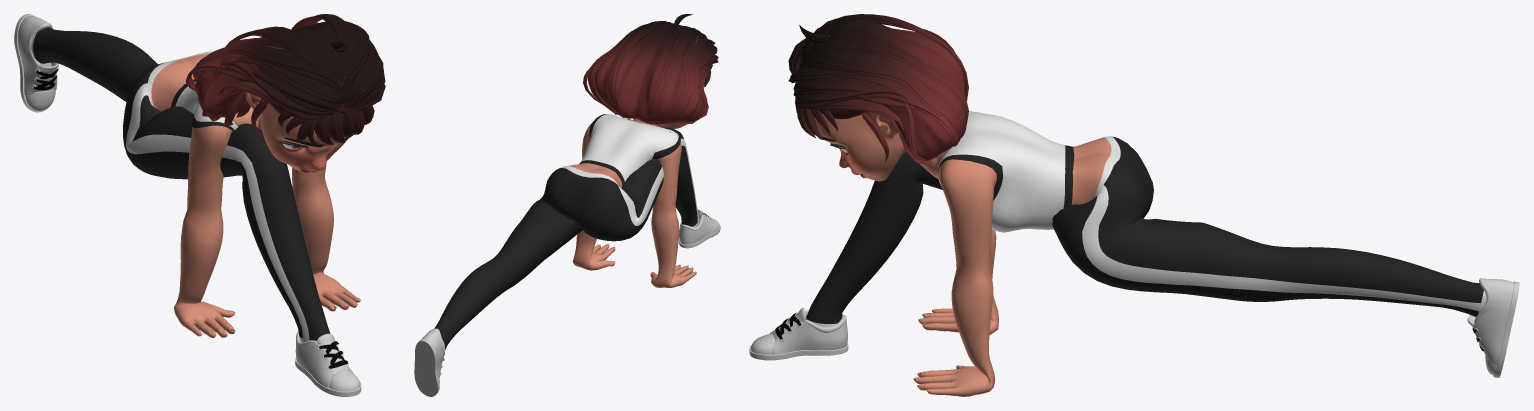
Rendered from lungs.glb.
3 renders of one model, left to right at view 1: azimuth 30°, elevation 25°; view 2: azimuth 150°, elevation 25°; view 3: azimuth 270°, elevation 25°, orthographic. The views are drawn at different scales.
Parts seen in each view (by area): view 1: BOT, hair, base, shoes, TOP; view 2: BOT, hair, base, TOP, shoes; view 3: BOT, hair, base, TOP, shoes.
Part boxes in pixels (x1,y1,x2,y2): BOT: [31, 27, 330, 342]; hair: [186, 14, 385, 145]; base: [151, 54, 360, 337]; shoes: [14, 14, 361, 396]; TOP: [171, 79, 238, 131]; BOT: [434, 127, 699, 350]; hair: [583, 14, 718, 128]; base: [568, 80, 704, 288]; TOP: [579, 114, 680, 185]; shoes: [414, 209, 720, 396]; BOT: [805, 136, 1486, 327]; hair: [788, 14, 968, 164]; base: [814, 112, 1111, 396]; TOP: [937, 111, 1074, 232]; shoes: [749, 278, 1519, 377].
Size of the model in its own units: 3.16 by 5.88 by 12.29.
10 materials, 2 textured.
